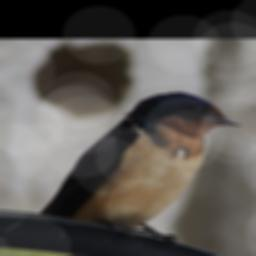Swallow: (35, 90, 244, 248)
